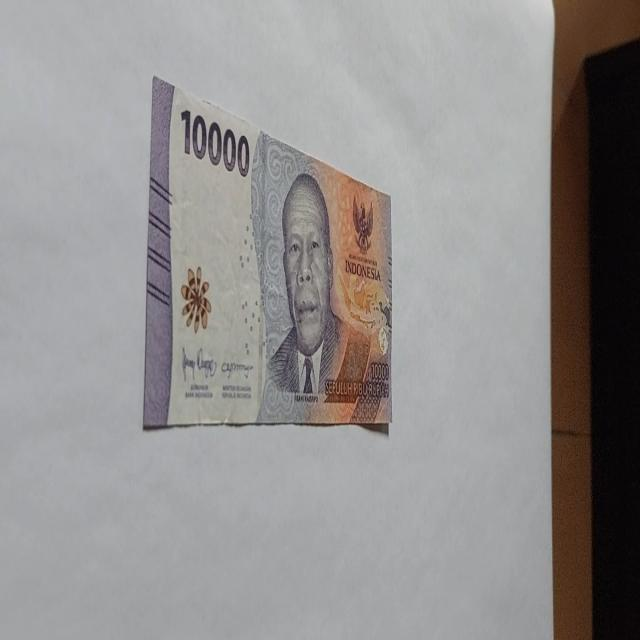sepuluh ribu rupiah: (142, 74, 394, 432), (260, 170, 373, 420)
